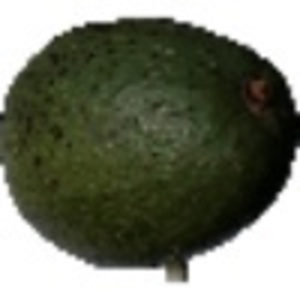abacate: (2, 14, 297, 268)
